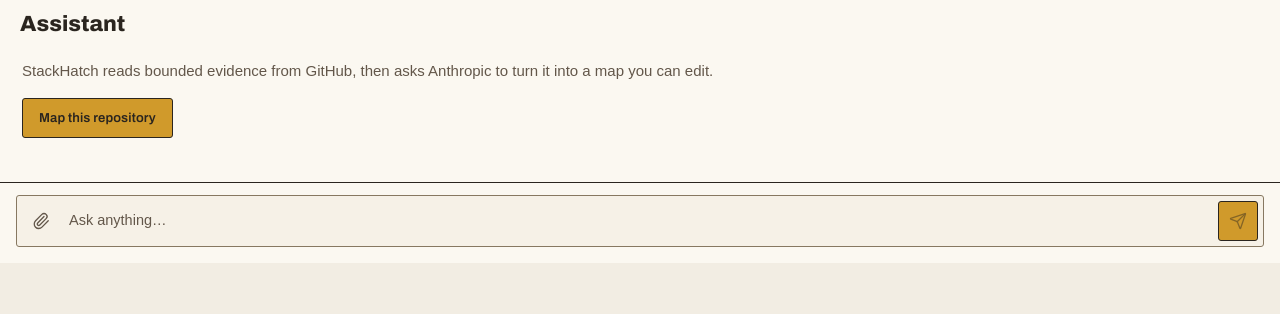
Test case: local-first ChatSidebar › replaces the immediate message with the stored one instead of duplicating it
Step 1. Type "Hello there" into the text box with placeholder "Ask anything…" → {"x": 640, "y": 221}, box [69,201,1210,241]
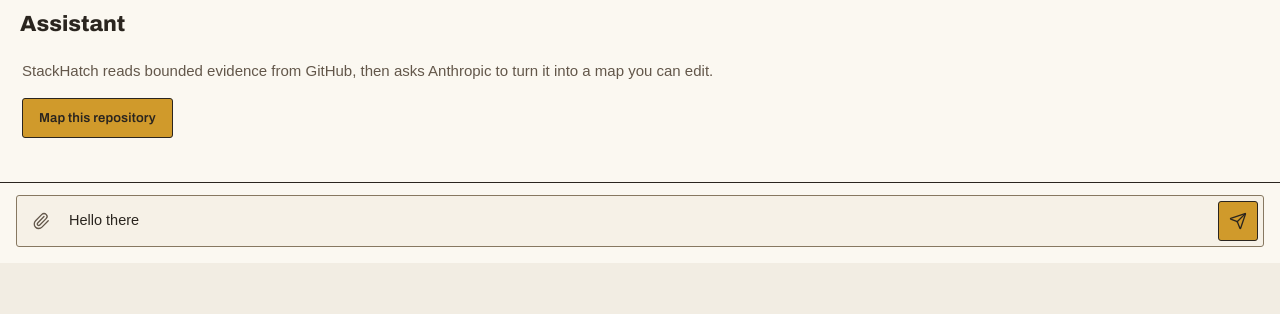
Step 2. Click the button named "Send message" → {"x": 1238, "y": 221}, box [1218,201,1258,241]
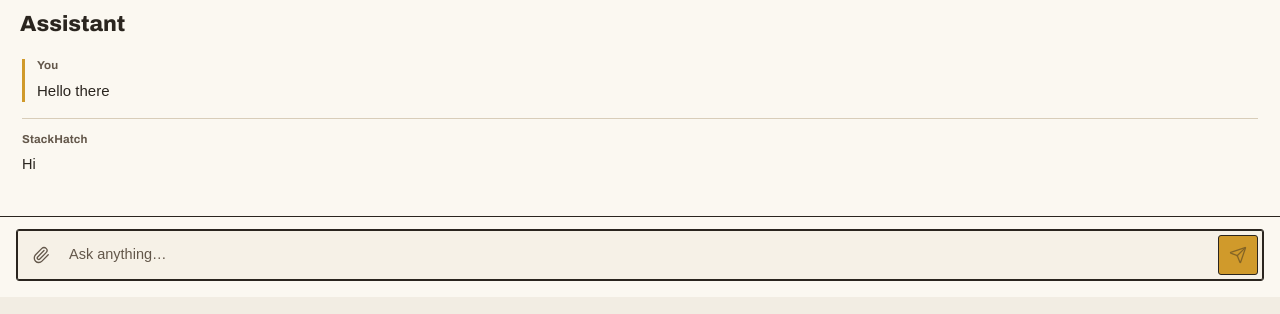
Expected: the text "Hi" is shown, [22,156,36,172]
Expected: the number of elements with test id "chat-message-user" is 1, [22,59,1258,102]
